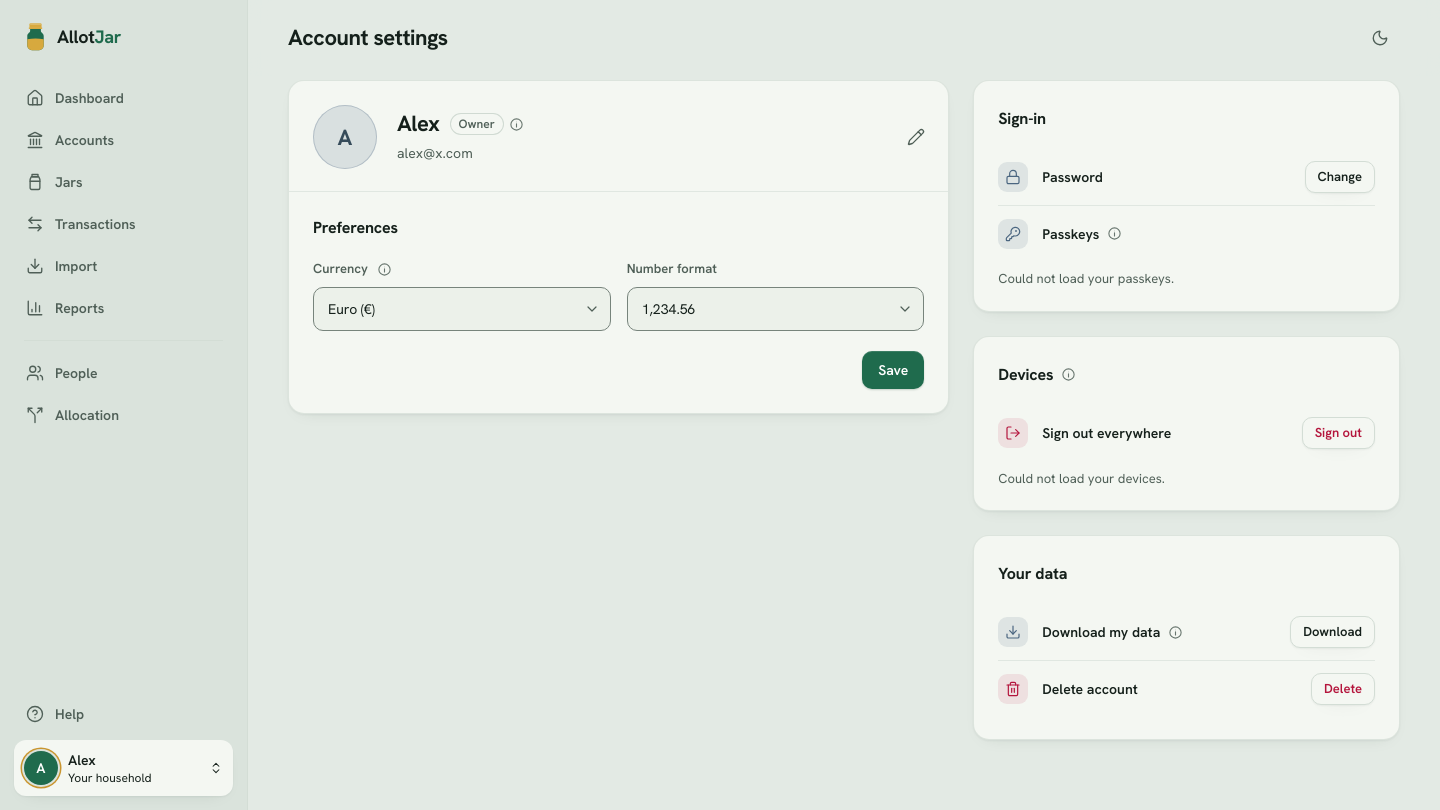
Test case: AccountPage: Delete account › shows the server's refusal and stays open ({"error":"That password isn't right."})
Click the button with aria-label "Delete account" at (1343, 689), box [1311,673,1375,705]
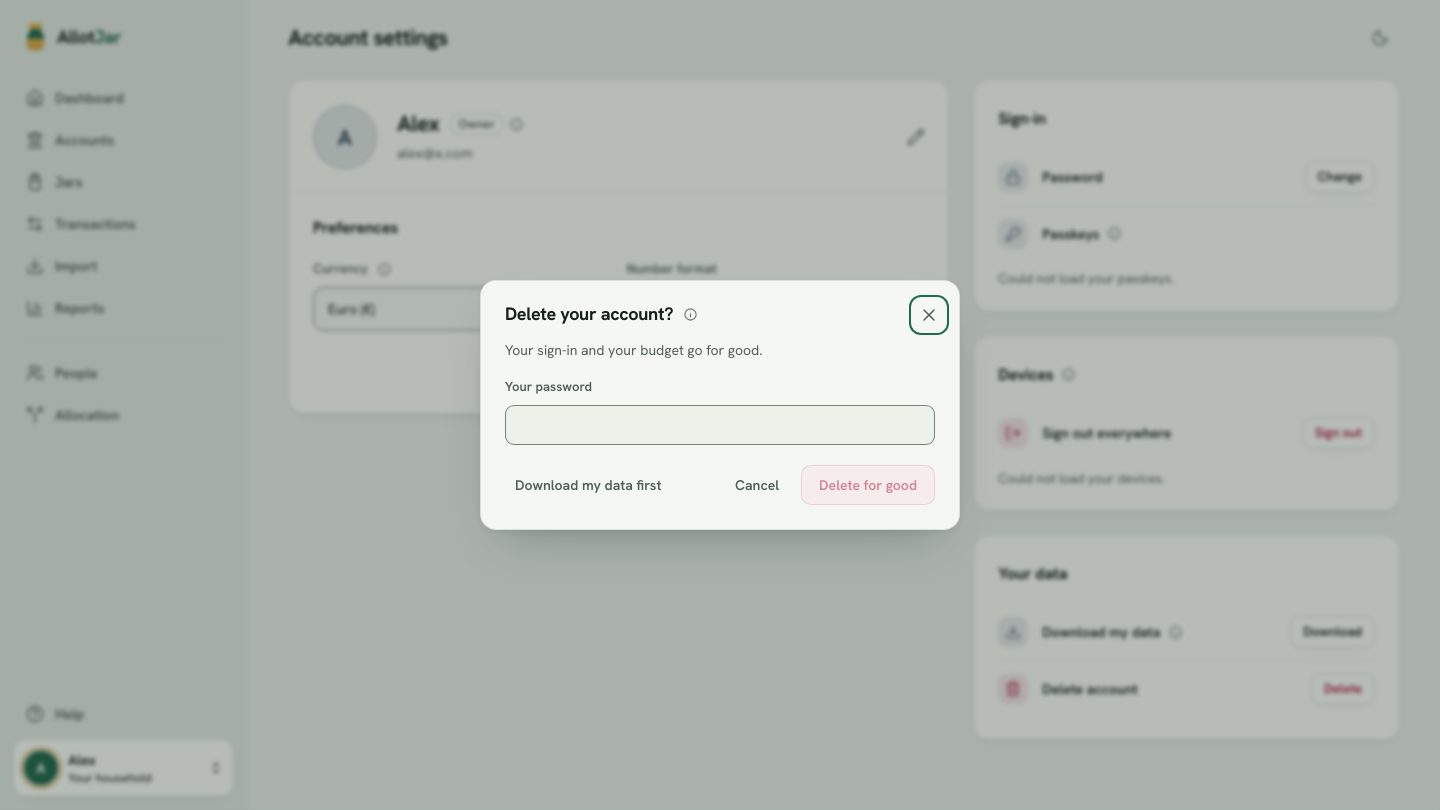
Type "wrong" into the password field labelled "Your password" at (720, 425), box [517,405,923,445]
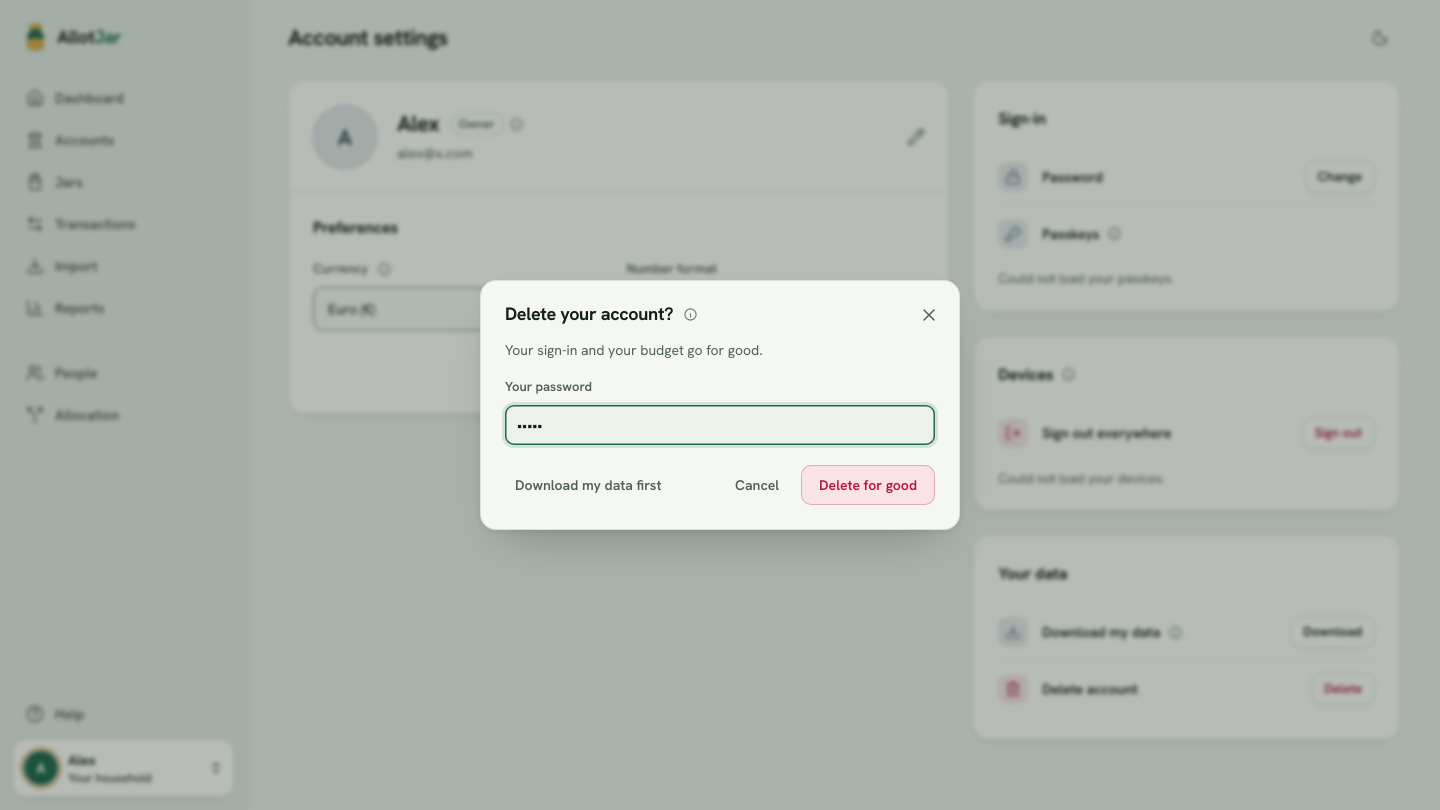
Click the button "Delete for good" at (868, 485), box [801,465,935,505]
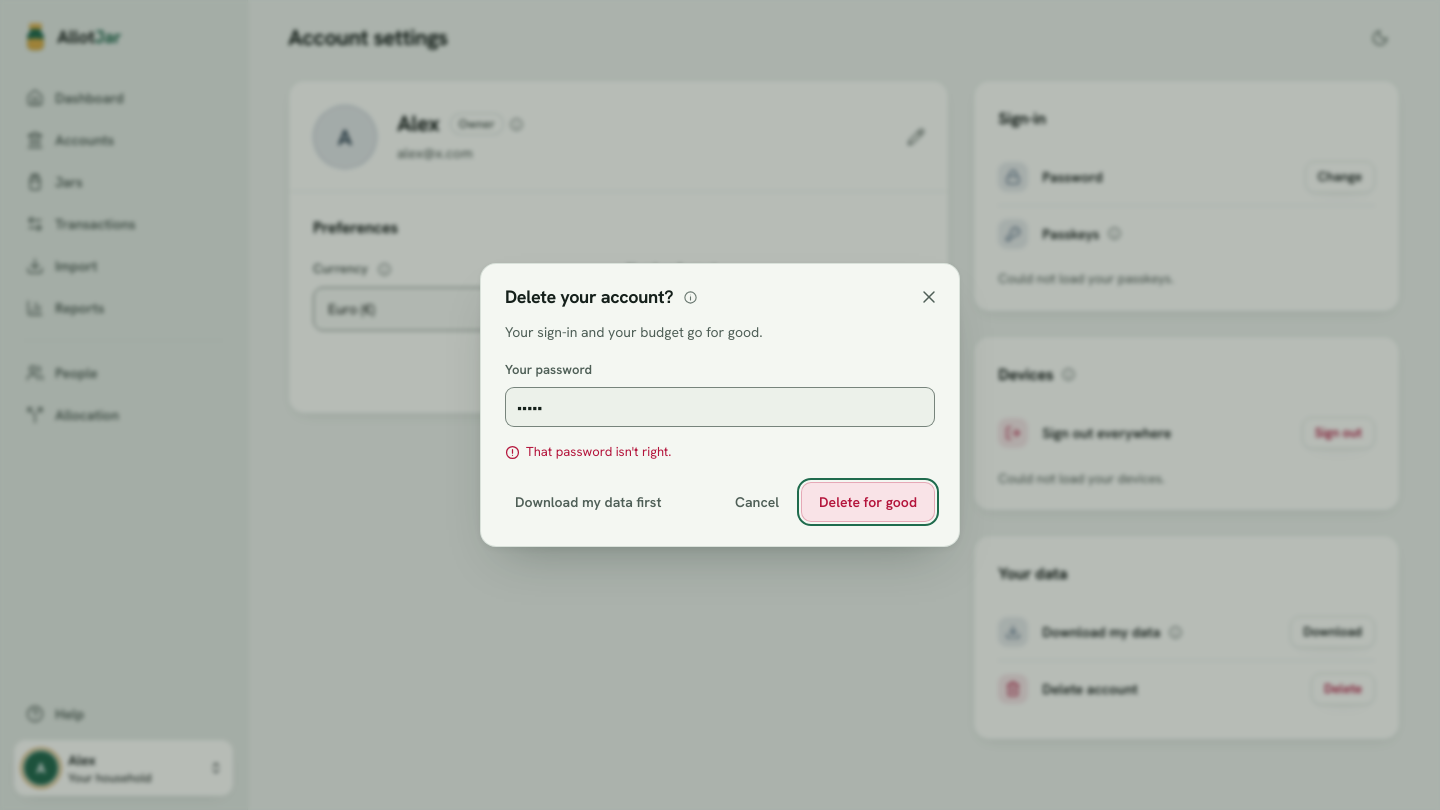
Expected: the message reads "That password isn't right.", [526,443,672,460]
